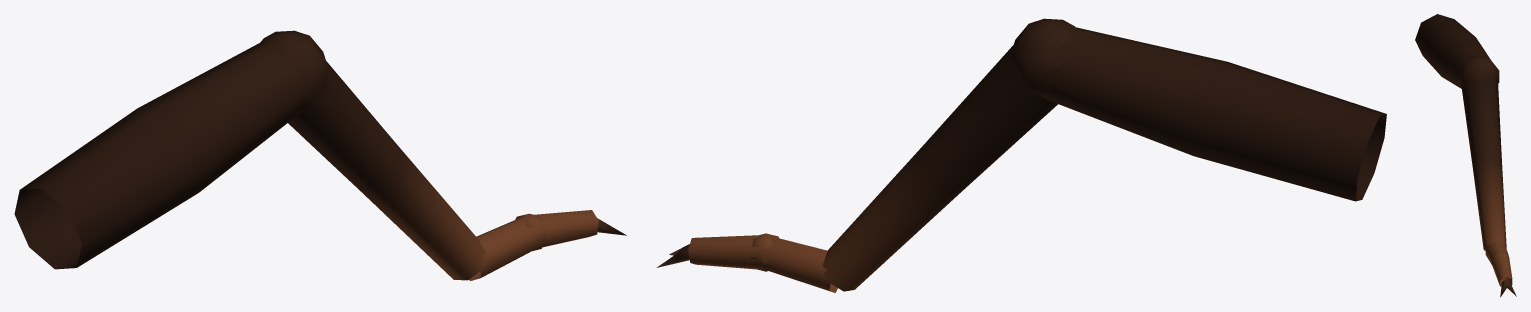
File: Kuwagata_Leg1.fbx
3 views of the same model, side by side, from view 1: azimuth 30°, elevation 25°; view 2: azimuth 150°, elevation 25°; view 3: azimuth 270°, elevation 25° (orthographic). The views are drawn at different scales.
Parts seen in each view (by area): view 1: Kuwagata_Leg1; view 2: Kuwagata_Leg1; view 3: Kuwagata_Leg1.
Boxes of the visible parts, x1,y1,x2,y2 form: Kuwagata_Leg1: (14,30,626,280); Kuwagata_Leg1: (656,18,1386,292); Kuwagata_Leg1: (1415,14,1516,297).
Size of the model in its own units: 0.4664 by 0.2101 by 0.126.
